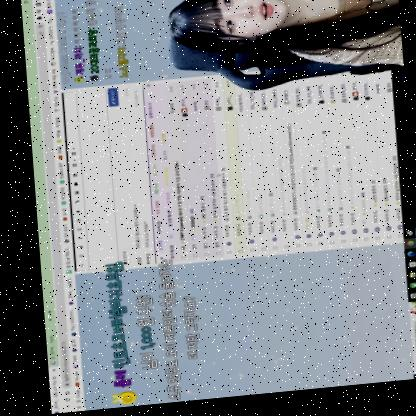donation: (98, 256, 198, 407)
streamer: (166, 0, 402, 92)
